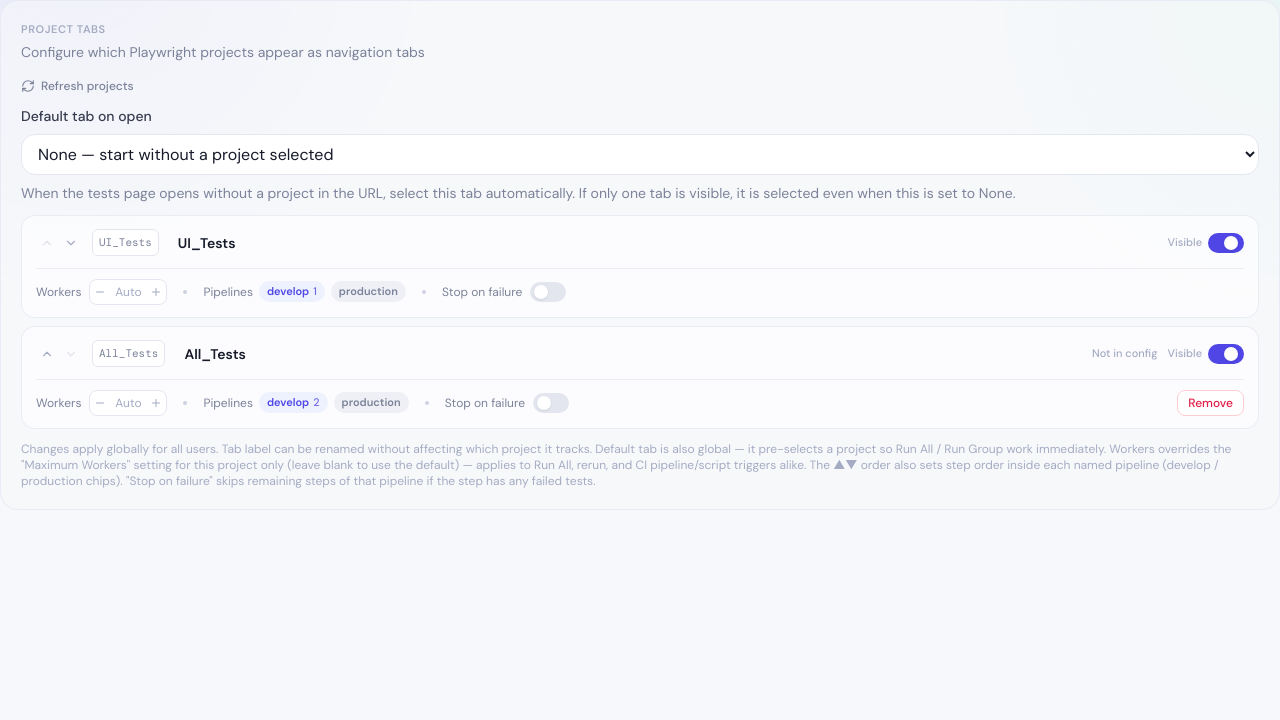
Scenario: SettingsProjectTabsSection - removing stale tabs › restores the tab and shows the error when saving fails
Click the button with aria-label "Remove stale tab All_Tests".
click(1211, 402)  # box [1177, 390, 1244, 416]
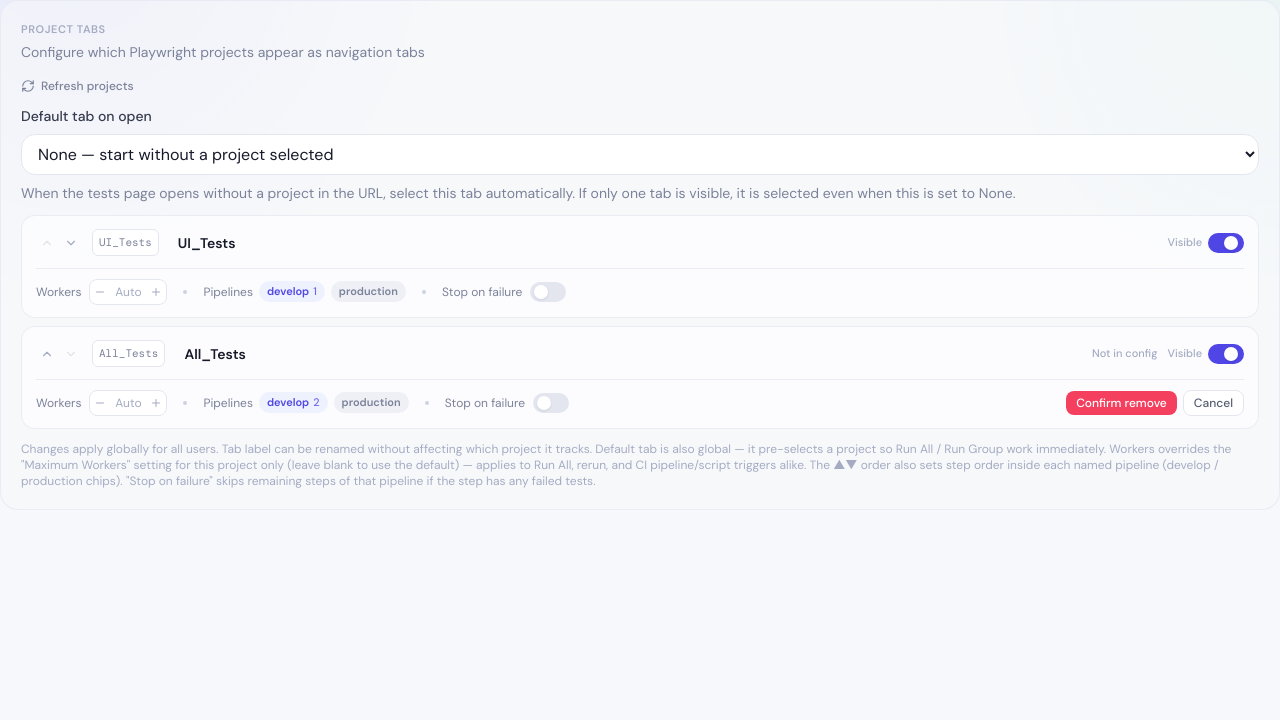
Click the button with aria-label "Confirm remove All_Tests".
click(1121, 402)  # box [1066, 390, 1177, 414]
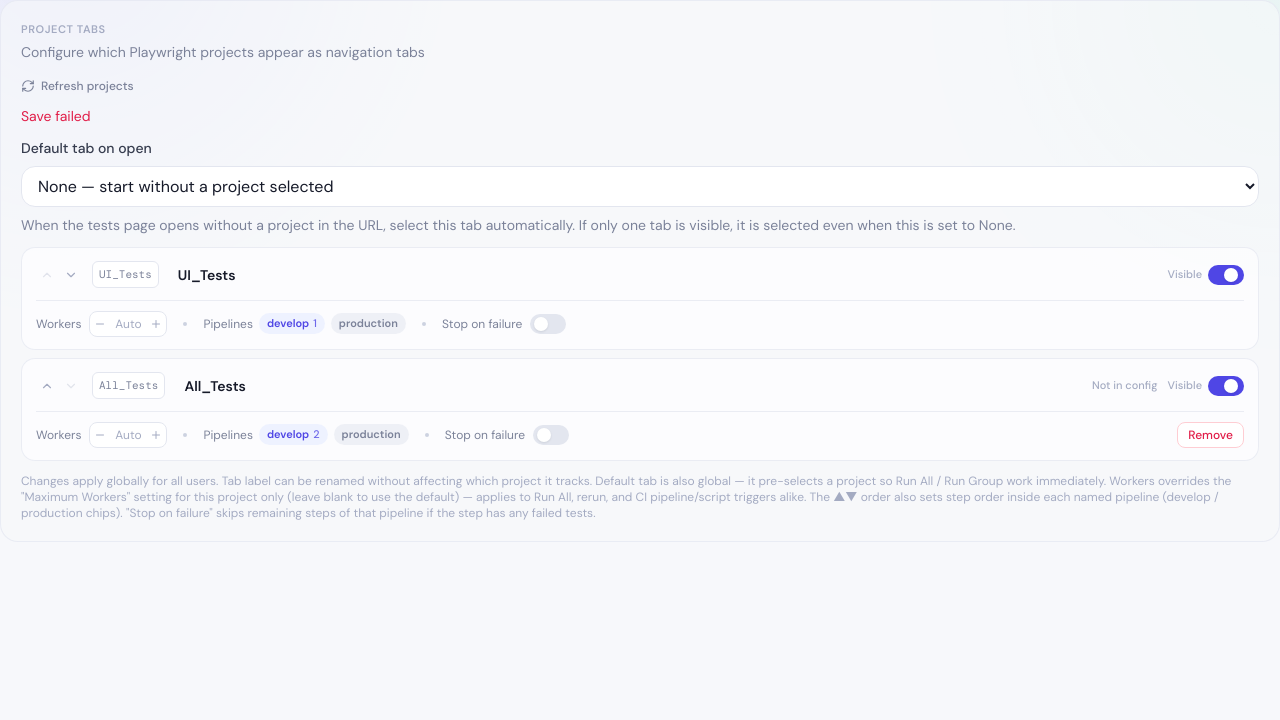
Expected: the field showing "All_Tests" next to "Not in config" is shown, [175, 370, 1082, 400]
Now the text "Save failed" is shown, box [21, 106, 90, 124]
